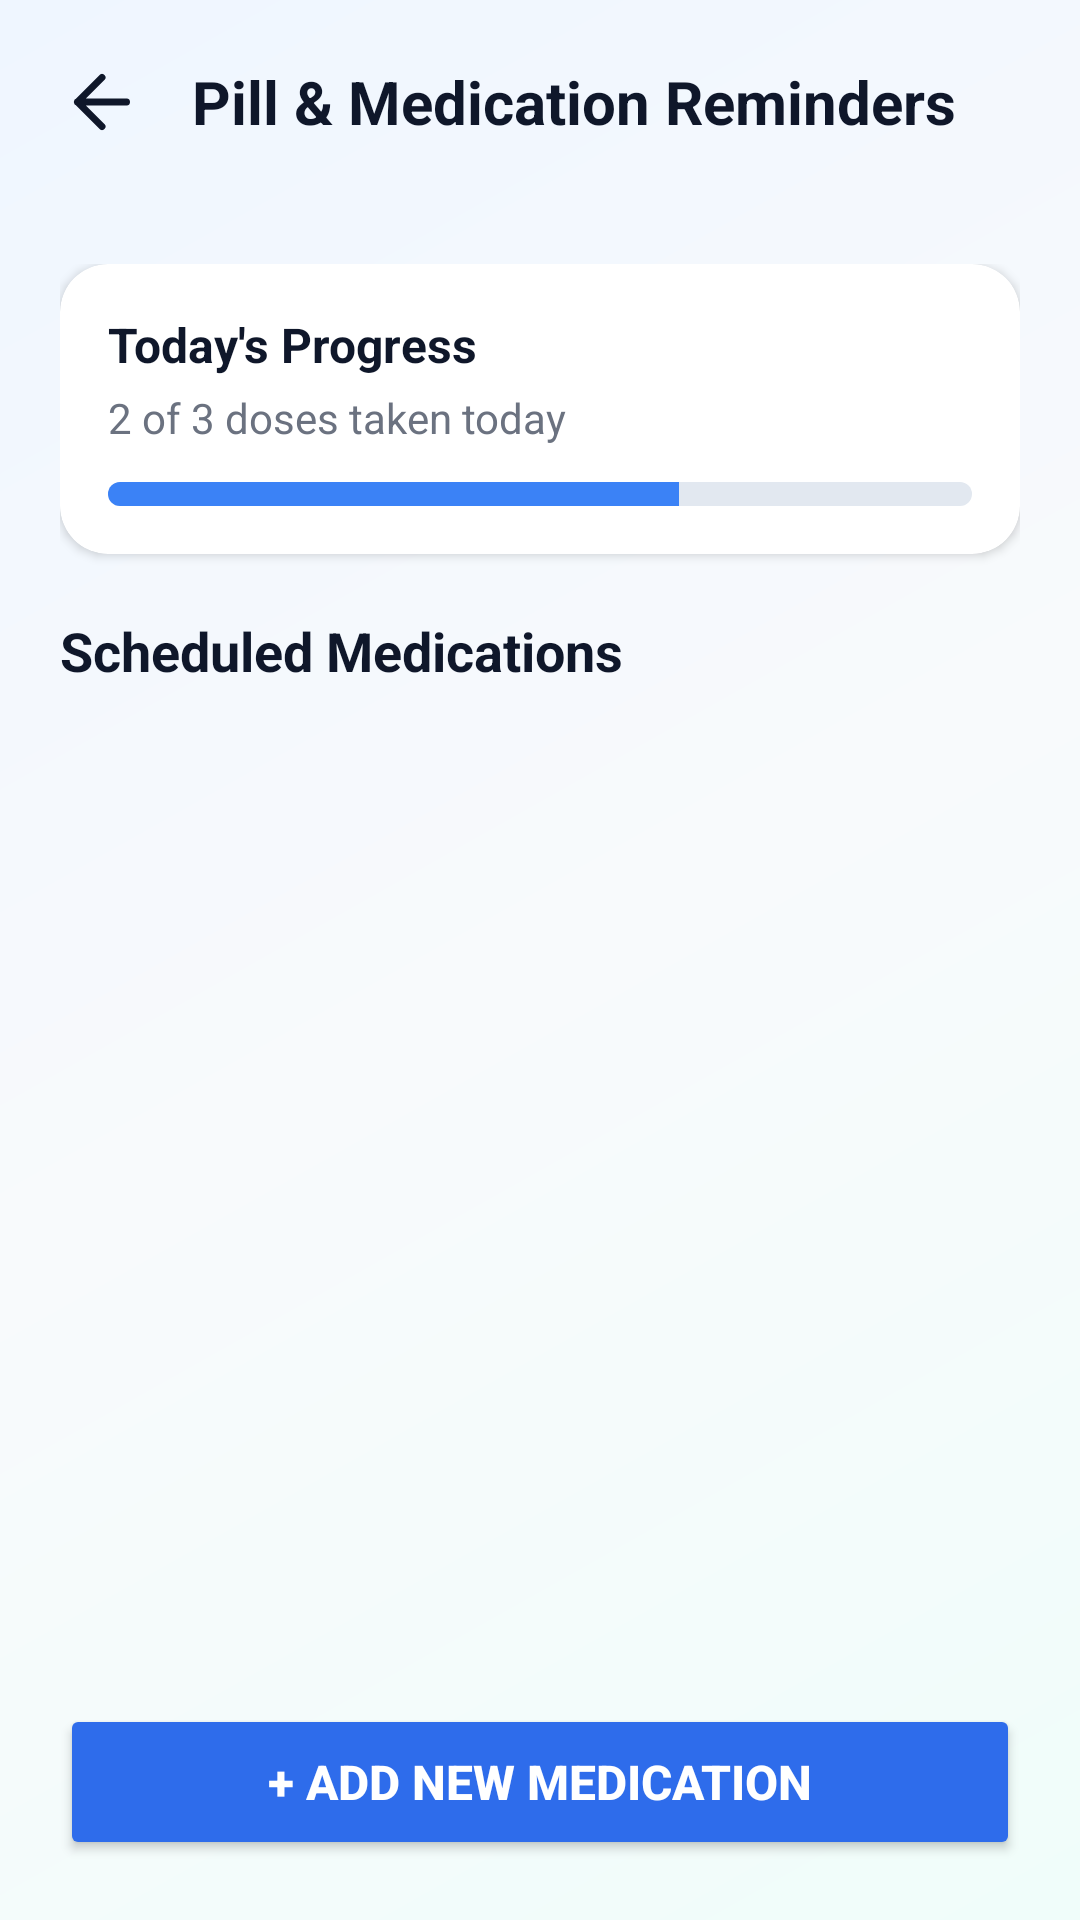

Where icons sit on this 1080x1920 app screen, as (x1, y1, x2, y2):
Back: (74, 74, 130, 130)
